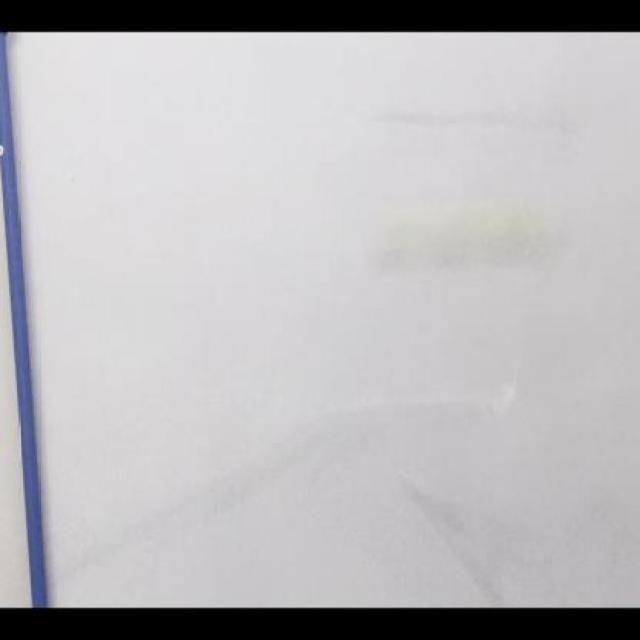baseball: (378, 206, 552, 266)
